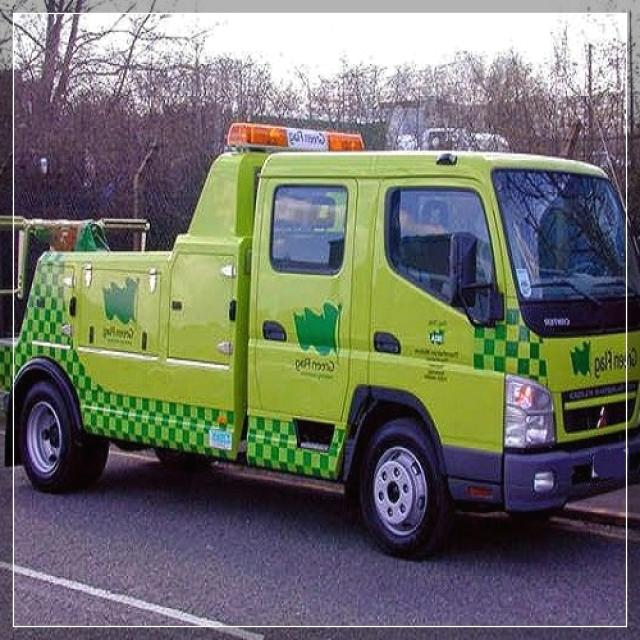truck: (1, 121, 623, 562)
